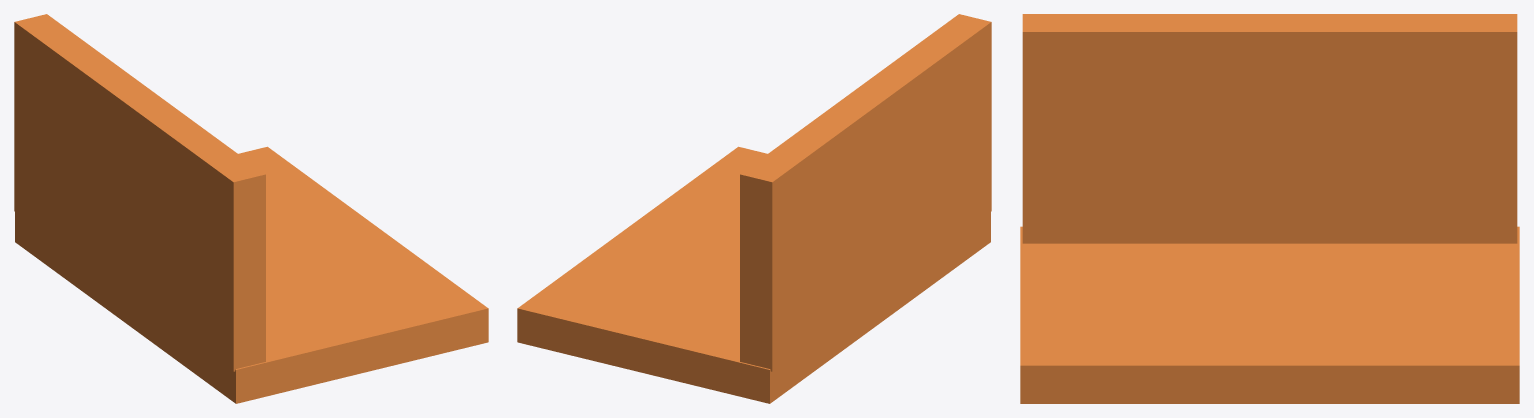
Rendered from Gym_Shelf_2.fbx.
3 renders of one model, left to right at view 1: azimuth 30°, elevation 25°; view 2: azimuth 150°, elevation 25°; view 3: azimuth 270°, elevation 25°, orthographic. The views are drawn at different scales.
Visible parts, largest first — view 1: Gym_Shelf_2; view 2: Gym_Shelf_2; view 3: Gym_Shelf_2.
Boxes of the visible parts, x1,y1,x2,y2 form: Gym_Shelf_2: (14,14,488,403); Gym_Shelf_2: (517,14,991,403); Gym_Shelf_2: (1020,14,1519,403).
Bounding box in the file's own units: 36.09 × 30.06 × 54.37.
